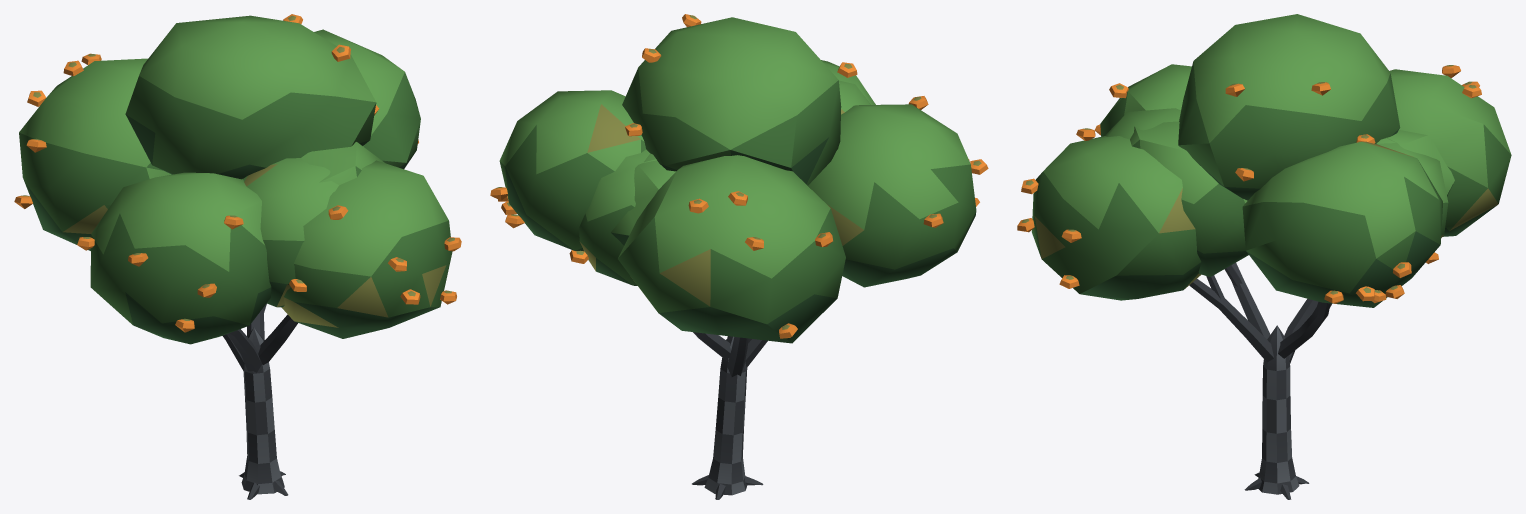
File: SC_Nat_Persimmon.gltf
The picture shows the model from 3 angles, left to right: view 1: azimuth 30°, elevation 25°; view 2: azimuth 150°, elevation 25°; view 3: azimuth 270°, elevation 25°; orthographic projection. The views are drawn at different scales.
Visible parts, largest first — view 1: SC_Nat_Persimmon; view 2: SC_Nat_Persimmon; view 3: SC_Nat_Persimmon.
Part boxes in pixels (x1,y1,x2,y2): SC_Nat_Persimmon: [14, 14, 461, 499]; SC_Nat_Persimmon: [490, 14, 988, 499]; SC_Nat_Persimmon: [1017, 14, 1511, 499].
Size of the model in its own units: 4.89 by 5.57 by 5.56.
1 material, 1 textured.
